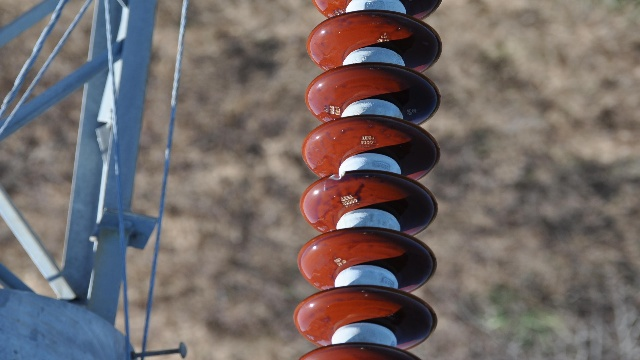broken_local: (328, 171, 352, 181)
insulator_unspecified: (292, 1, 445, 359)
